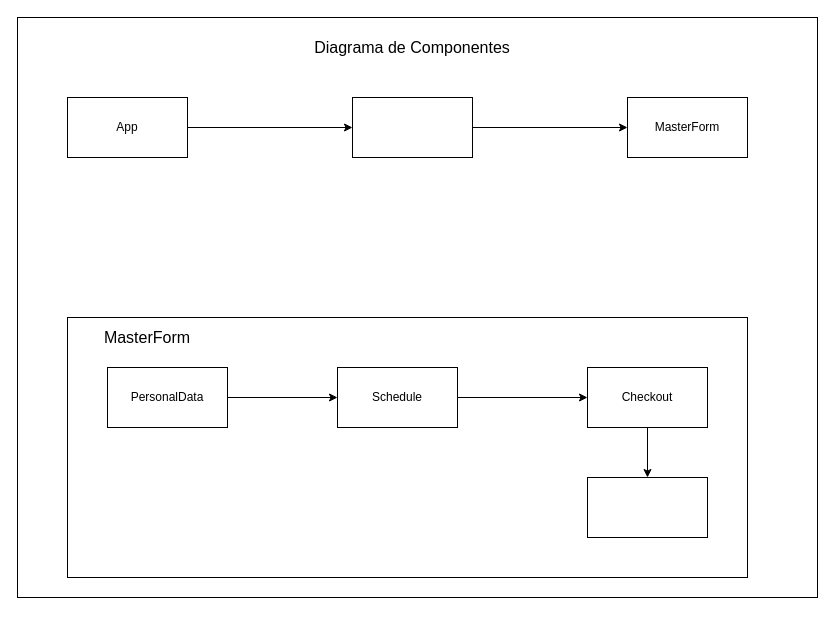
This 835x625 diagram has some shape labels left out. The centre of each missing label's shape, as x and y in pixels:
Thankyou: the point at 647,507
Welcome: the point at 412,127
